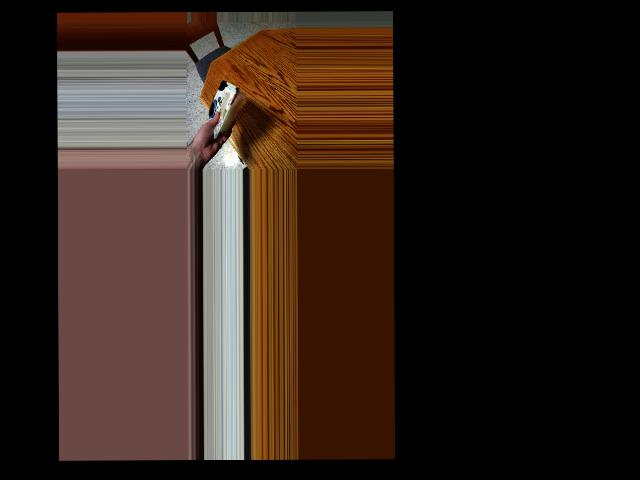cheese: (199, 83, 244, 130)
